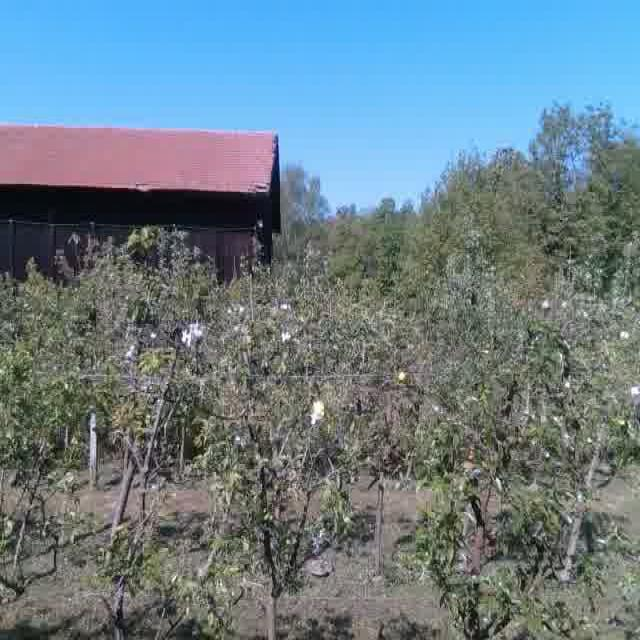yellow: (393, 365, 413, 383)
